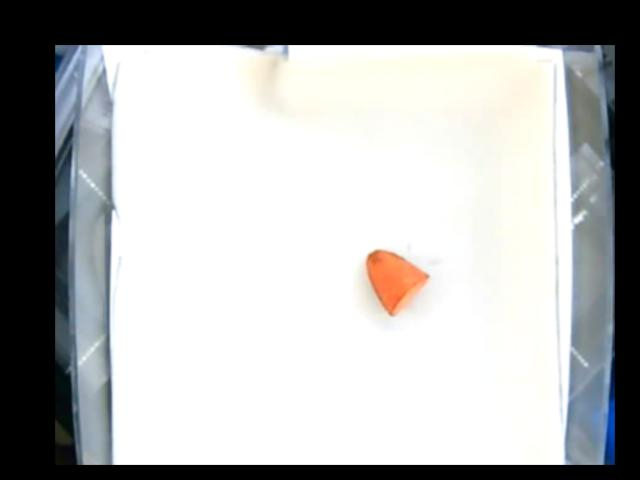Carrot: (365, 248, 431, 316)
